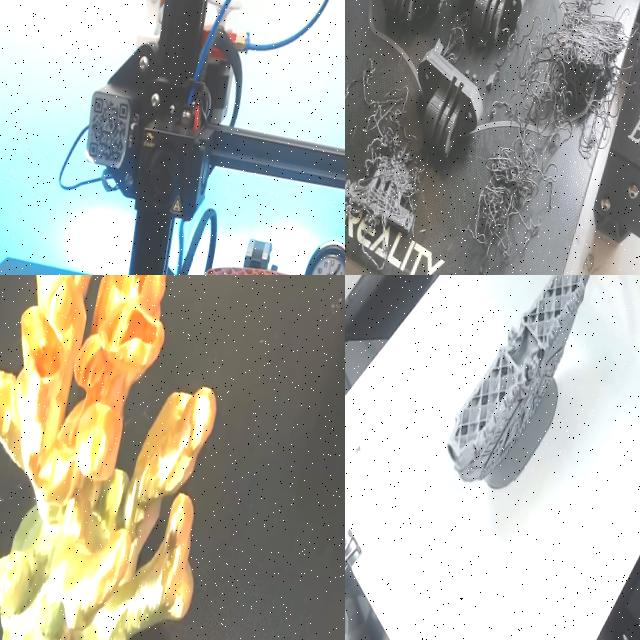spaghetti: (457, 114, 580, 275), (507, 0, 636, 152), (345, 71, 440, 255), (345, 15, 379, 118)
